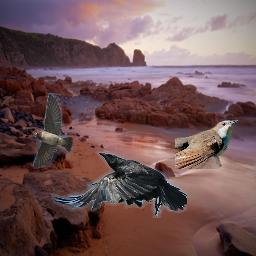Crow: (50, 151, 187, 218)
Cuckoo: (175, 120, 238, 169)
Swallow: (33, 93, 73, 169)
